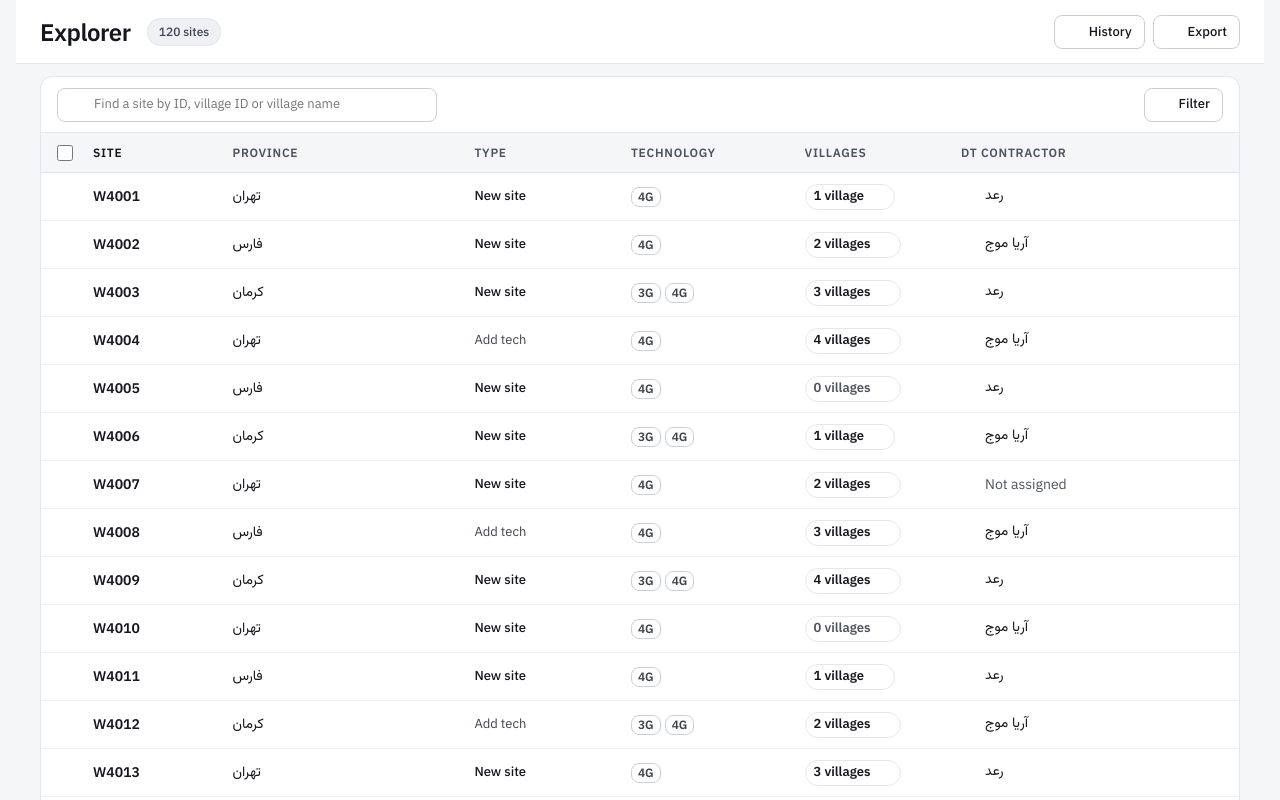
Test: Explorer list: filters and search › closes the popover with Escape and returns focus to Filter
The image size is (1280, 800).
Click the button "Filter" at (1183, 104), box [1144, 88, 1223, 122]
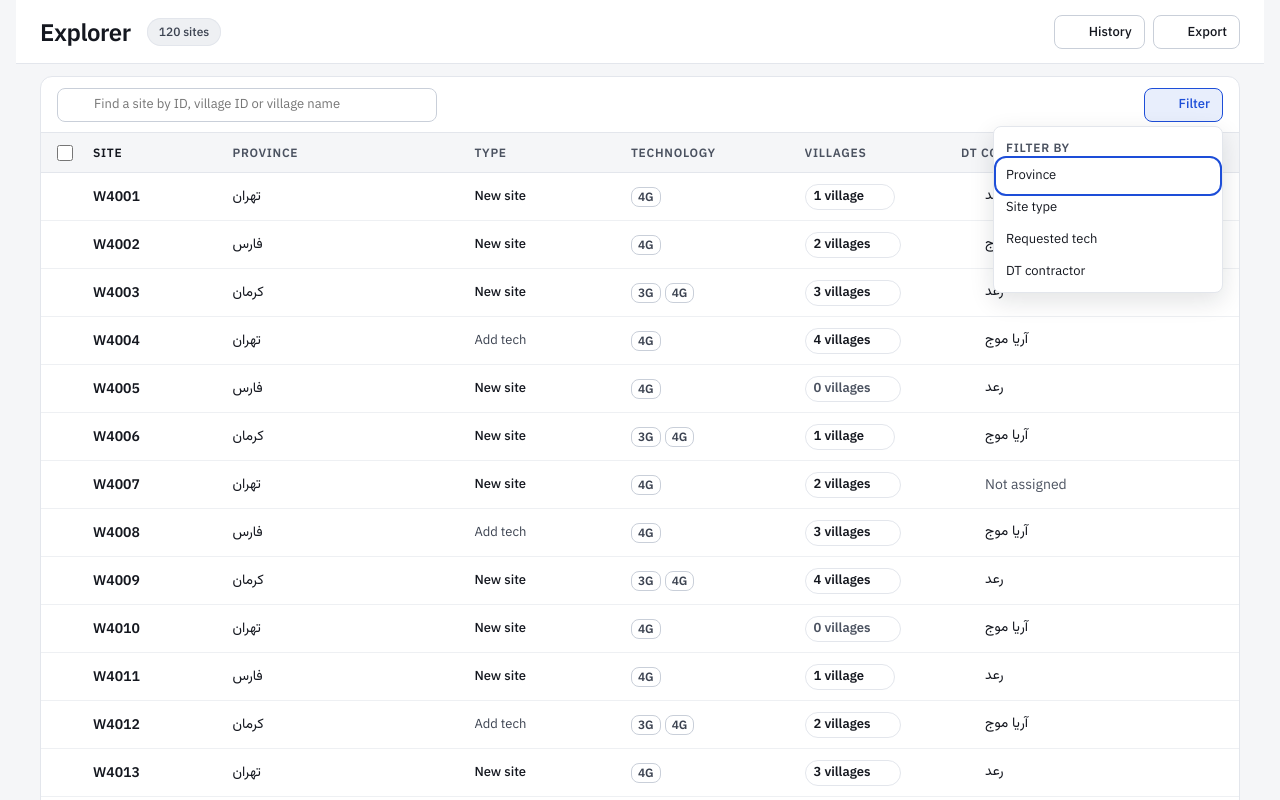
Press Escape
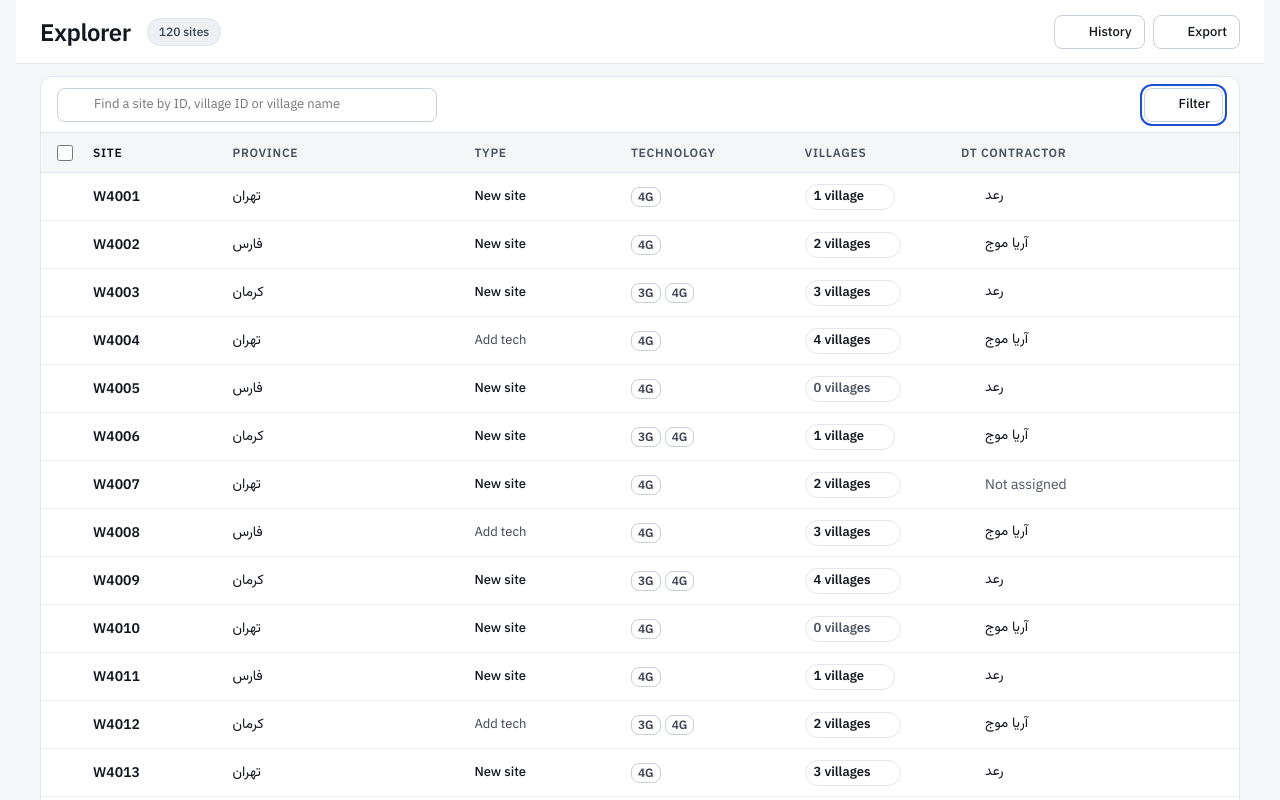
Expected: the dialog is gone
